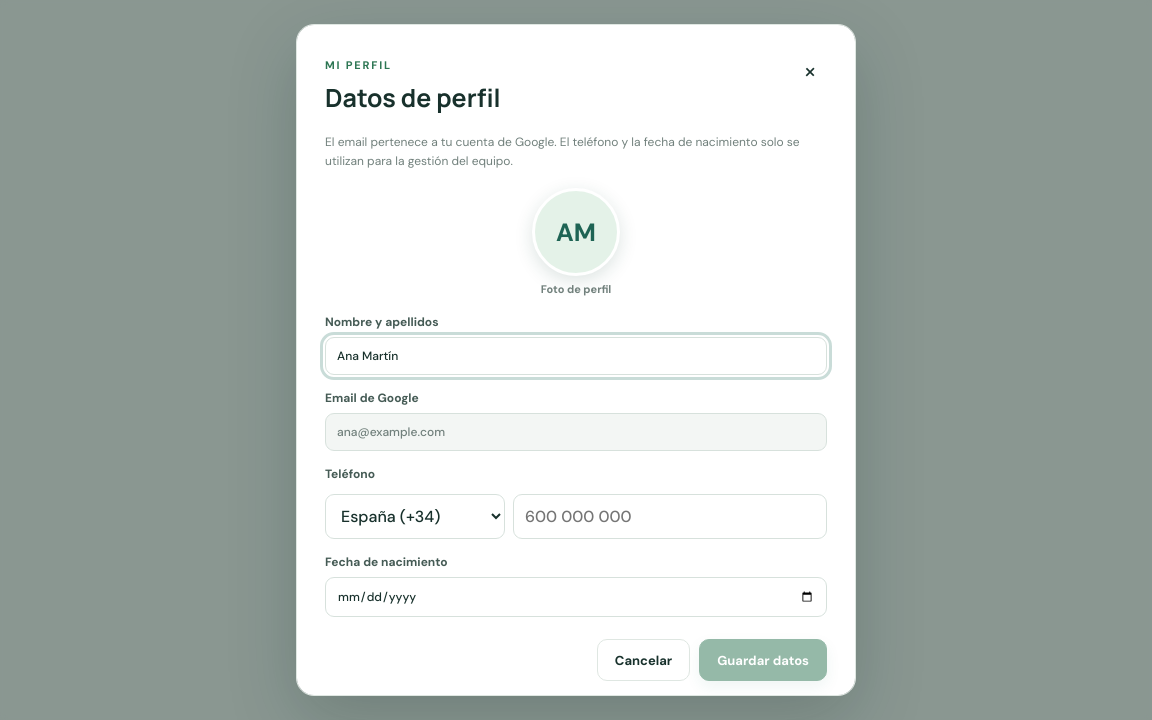
Test: ProfileDetailsDialog › requires at least a name and a surname
The width and height of the screenshot is (1152, 720).
Replace the text in the field labelled "Nombre y apellidos" with "P" at (576, 356), box x1=325 y1=337 x2=827 y2=375
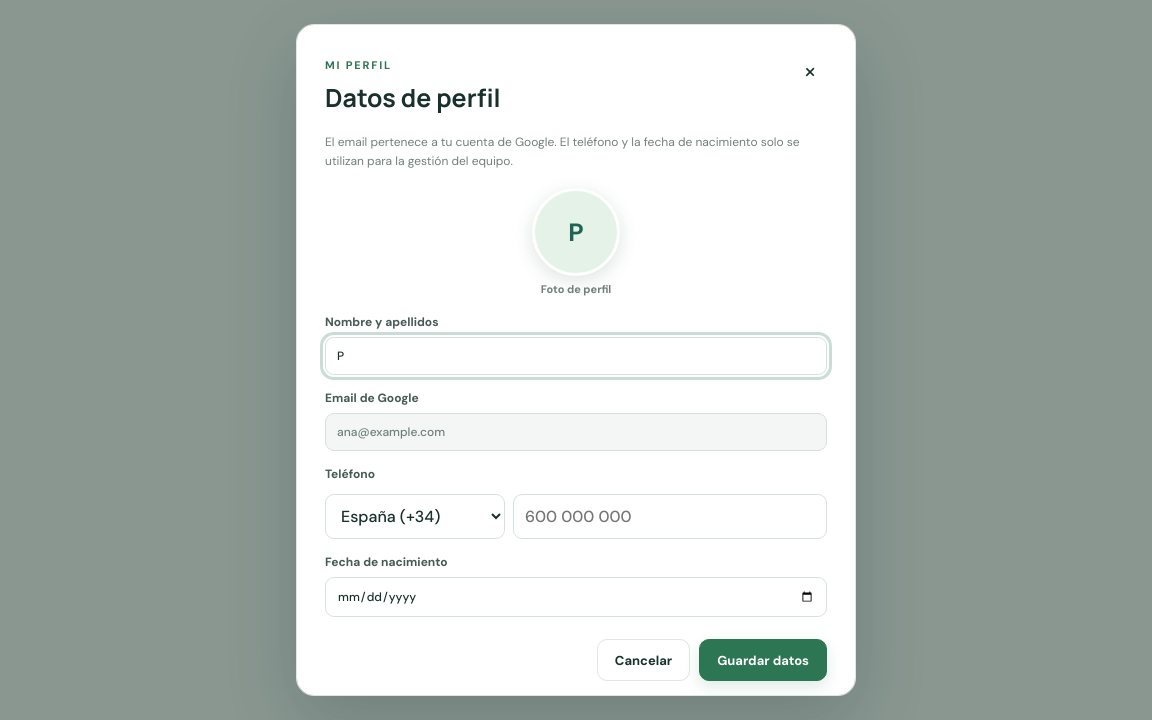
Click the button "Guardar datos" at (763, 660), box x1=699 y1=639 x2=827 y2=681
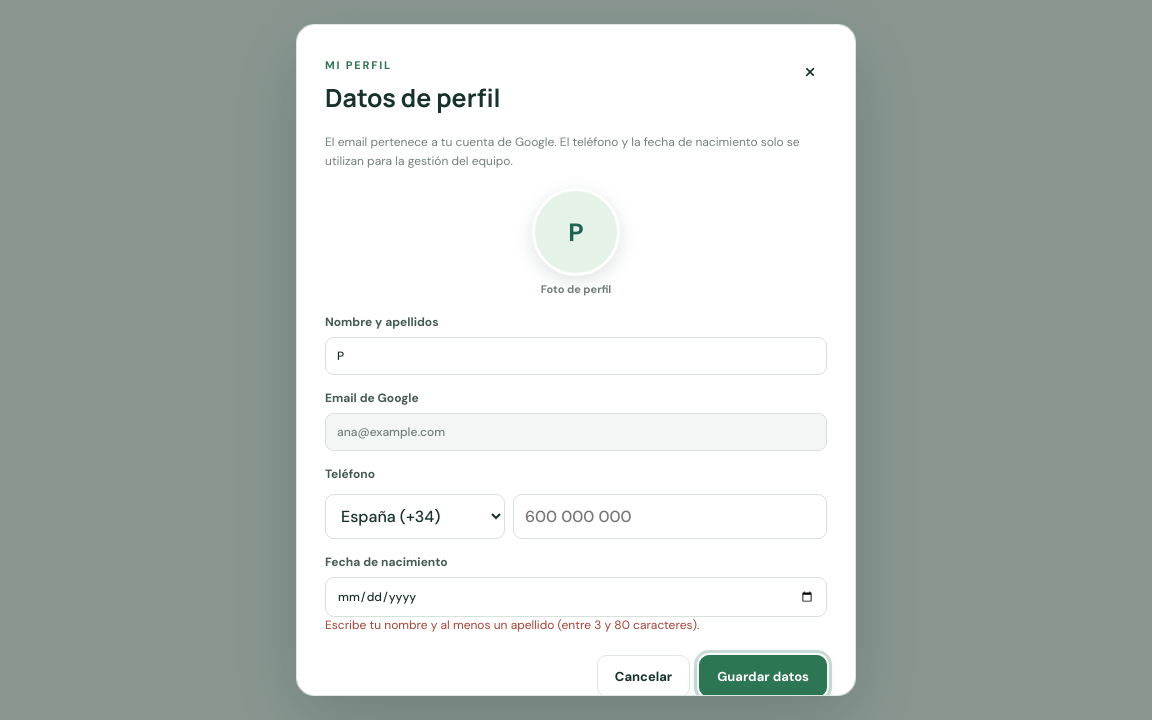
Result: the message shows "nombre y al menos un apellido" at x1=325 y1=617 x2=699 y2=633
